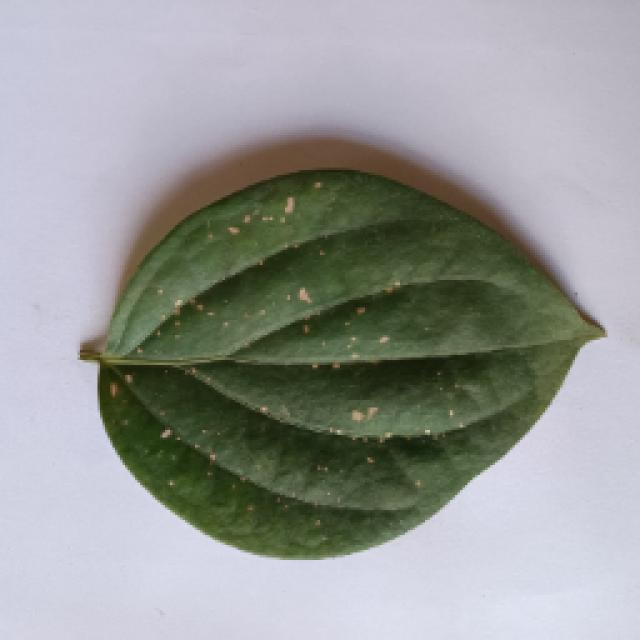pollu-disease: (78, 160, 608, 565)
